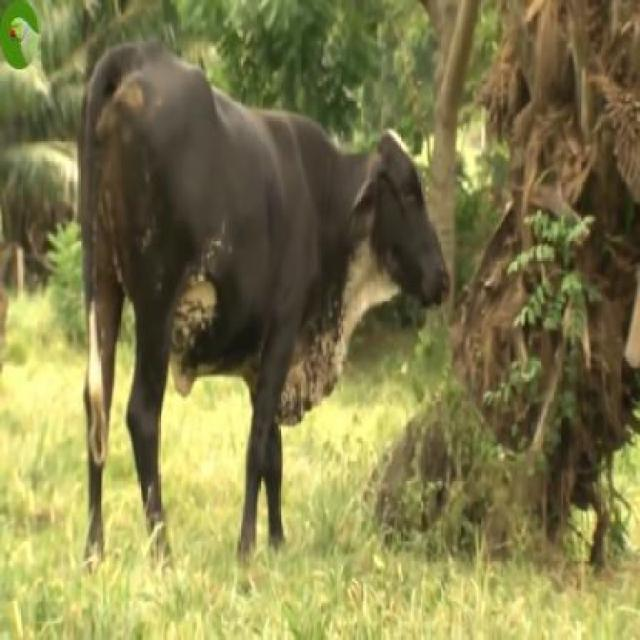Cow: (77, 51, 455, 571)
